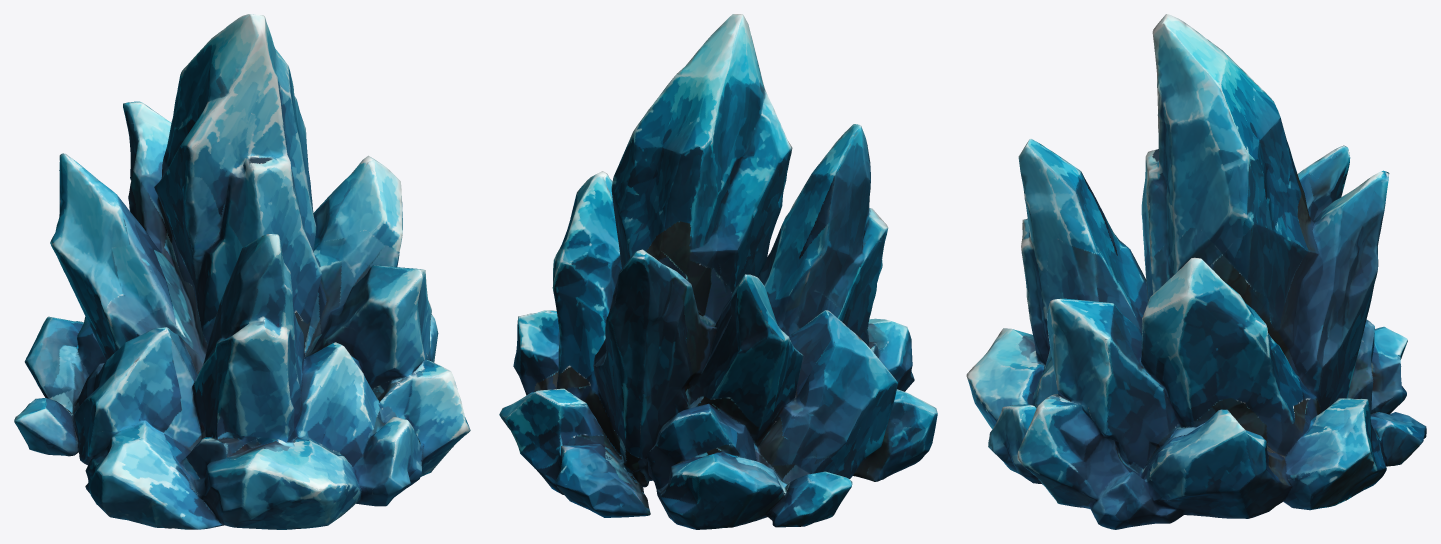
File: IceSpike_08.fbx
3 views of the same model, side by side, from view 1: azimuth 30°, elevation 25°; view 2: azimuth 150°, elevation 25°; view 3: azimuth 270°, elevation 25° (orthographic). The views are drawn at different scales.
Parts seen in each view (by area): view 1: texture_mapping; view 2: texture_mapping; view 3: texture_mapping.
Boxes of the visible parts, bbox=[...] form: texture_mapping: bbox=[14, 14, 470, 529]; texture_mapping: bbox=[499, 14, 937, 529]; texture_mapping: bbox=[966, 14, 1426, 529].
Size of the model in its own units: 0.8645 by 0.951 by 1.
1 material, 1 textured.
